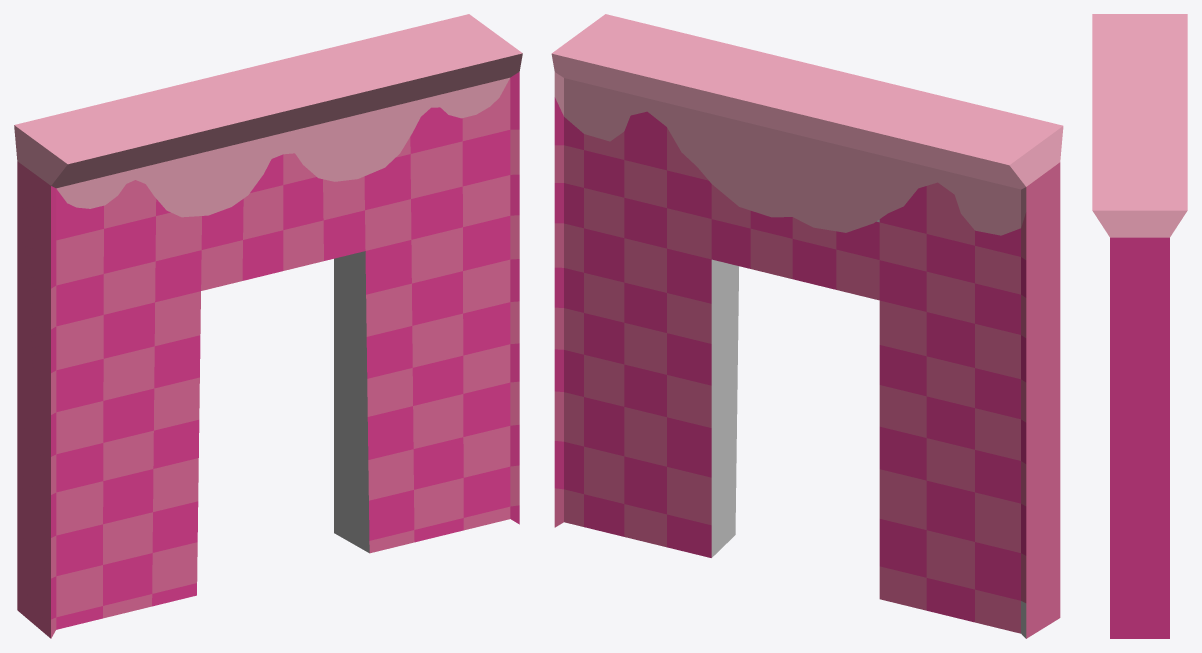
The model's file is door final.fbx.
3 views of the same model, side by side, from view 1: azimuth 30°, elevation 25°; view 2: azimuth 150°, elevation 25°; view 3: azimuth 270°, elevation 25° (orthographic). The views are drawn at different scales.
Visible parts, largest first — view 1: Cube; view 2: Cube; view 3: Cube.
Boxes of the visible parts, x1,y1,x2,y2 form: Cube: (14,14,522,638); Cube: (551,14,1063,638); Cube: (1092,14,1187,638).
Bounding box in the file's own units: 7.69 × 7.53 × 1.53.
